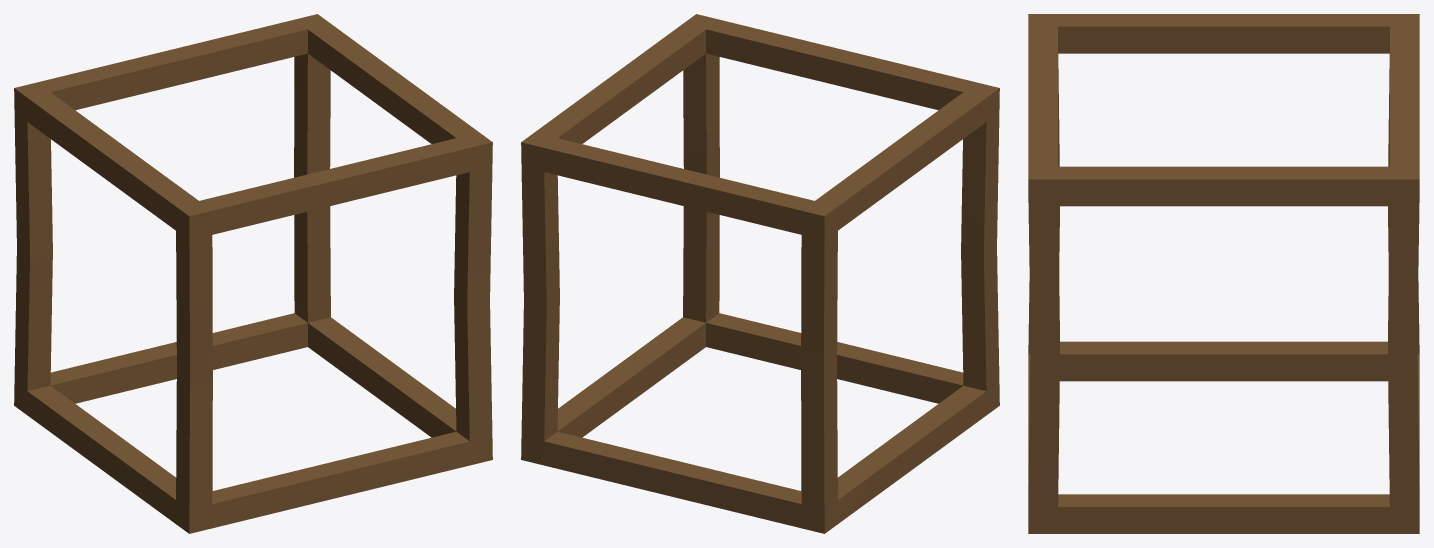
Rendered from _gold_frame.fbx.
3 views of the same model, side by side, from view 1: azimuth 30°, elevation 25°; view 2: azimuth 150°, elevation 25°; view 3: azimuth 270°, elevation 25° (orthographic). The views are drawn at different scales.
Parts seen in each view (by area): view 1: gold_frame; view 2: gold_frame; view 3: gold_frame.
Boxes of the visible parts, left/top/right/bottom form: gold_frame: left=14, top=14, right=492, bottom=533; gold_frame: left=521, top=14, right=999, bottom=533; gold_frame: left=1028, top=14, right=1419, bottom=533.
Size of the model in its own units: 100 by 100 by 100.
